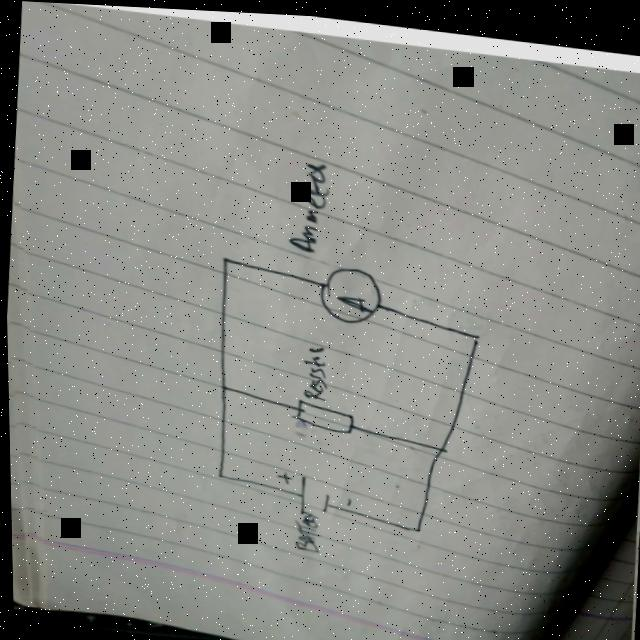junction: (212, 466, 227, 478), (407, 519, 422, 531), (432, 438, 447, 450), (466, 327, 482, 338), (216, 380, 231, 391), (218, 253, 233, 264)
resistor: (285, 393, 354, 431)
source: (269, 464, 356, 518)
text: (282, 153, 332, 252), (297, 339, 328, 399), (287, 503, 320, 551)
